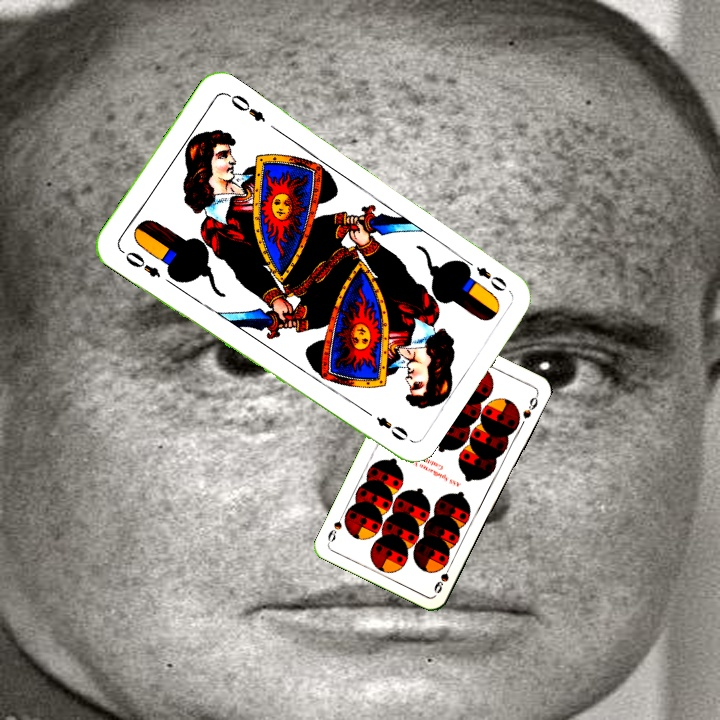EO: (459, 254, 510, 294), (116, 245, 164, 281)
S9: (430, 558, 455, 596)
